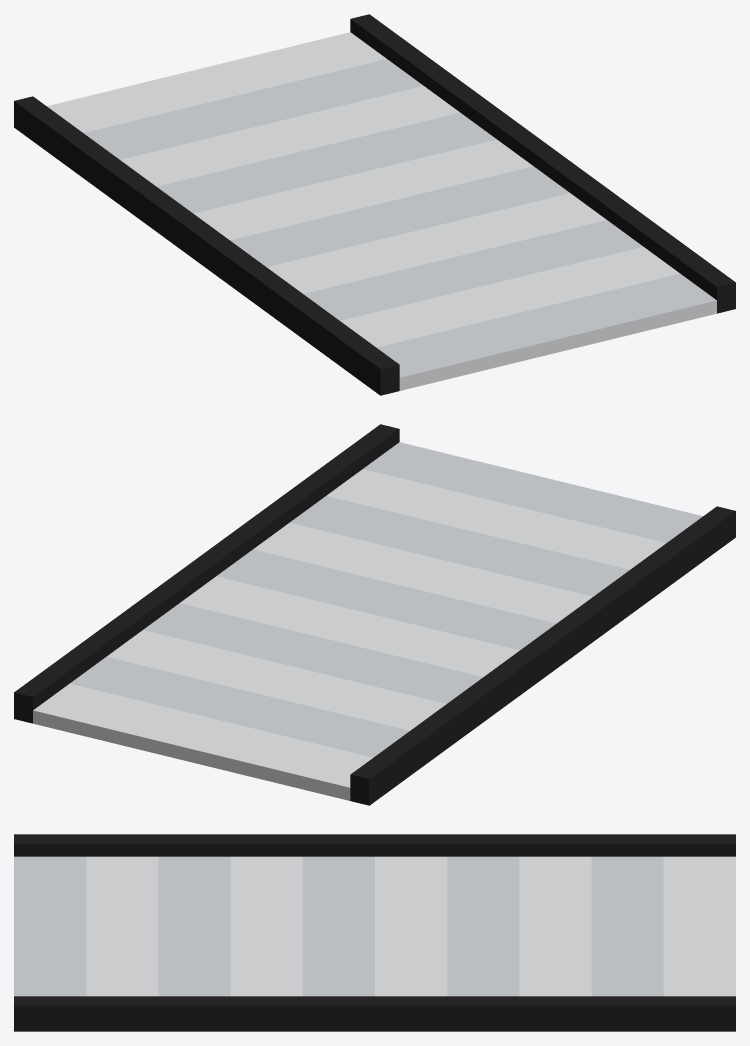
Rendered from Road.fbx.
The picture shows the model from 3 angles, top to bottom: view 1: azimuth 30°, elevation 25°; view 2: azimuth 150°, elevation 25°; view 3: azimuth 270°, elevation 25°; orthographic projection.
Parts seen in each view (by area): view 1: Cube; view 2: Cube; view 3: Cube.
Part boxes in pixels (left/top/right/bottom): Cube: left=14, top=14, right=735, bottom=395; Cube: left=14, top=424, right=735, bottom=805; Cube: left=14, top=834, right=735, bottom=1031.
Bounding box in the file's own units: 560 × 40 × 1000.
